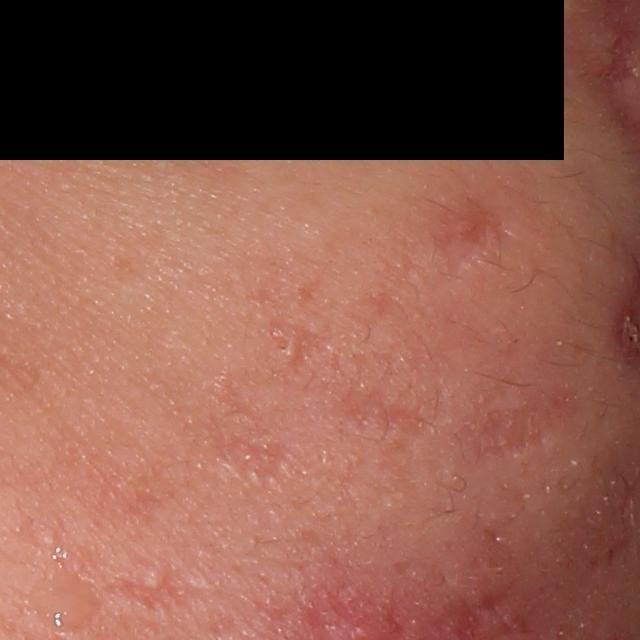atrophic_scar: (187, 370, 305, 488), (311, 344, 441, 438), (455, 380, 588, 465), (429, 200, 510, 284), (104, 573, 203, 616), (265, 314, 329, 374)
hypertrophic_scar: (137, 565, 167, 586)
